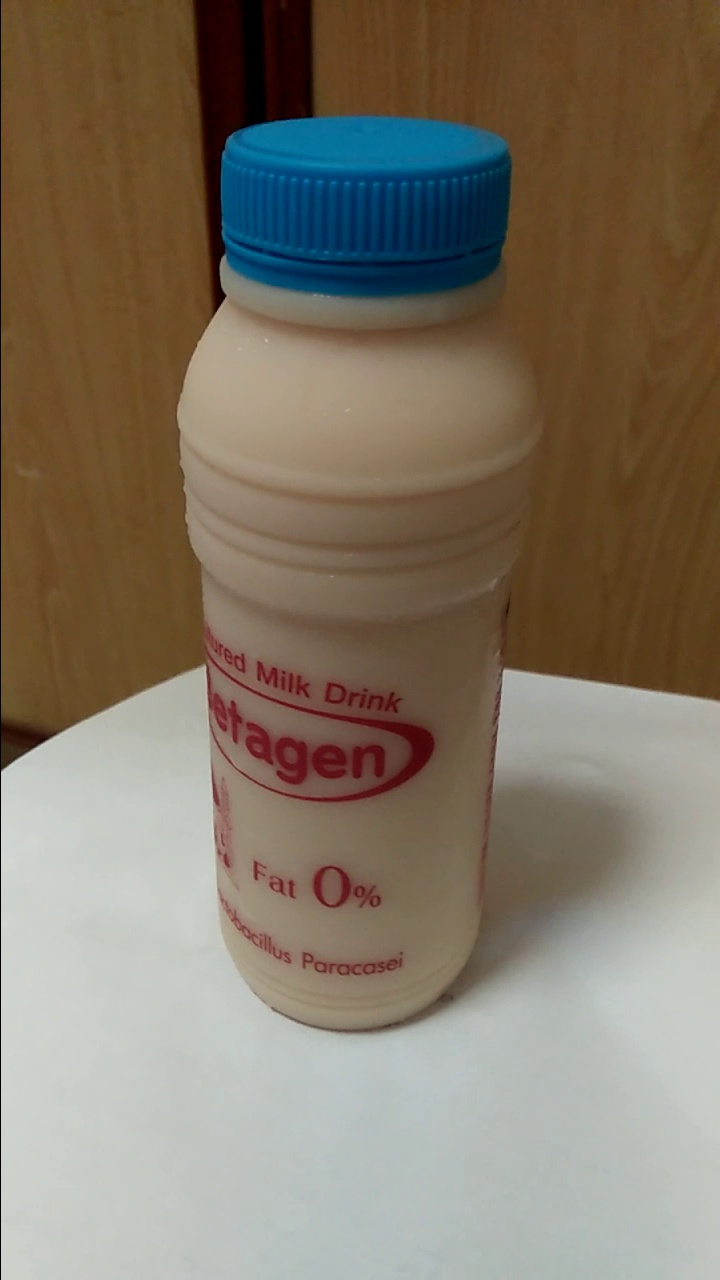mlik2: (192, 127, 525, 1033)
